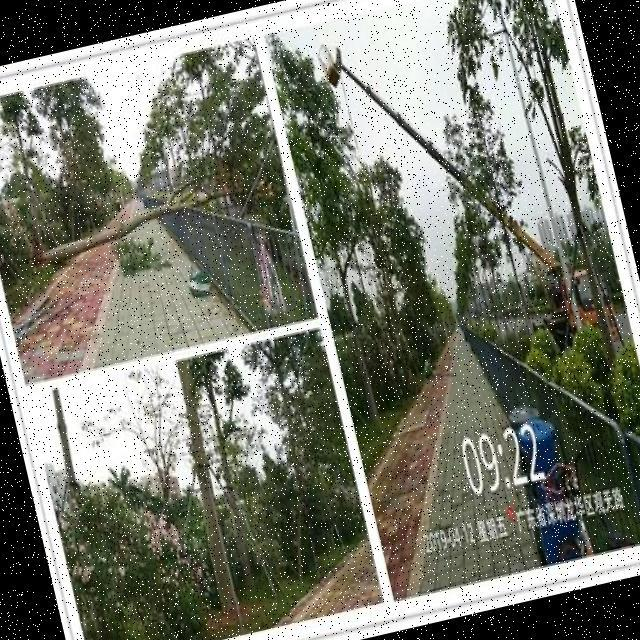fallen_object: (7, 116, 291, 267)
